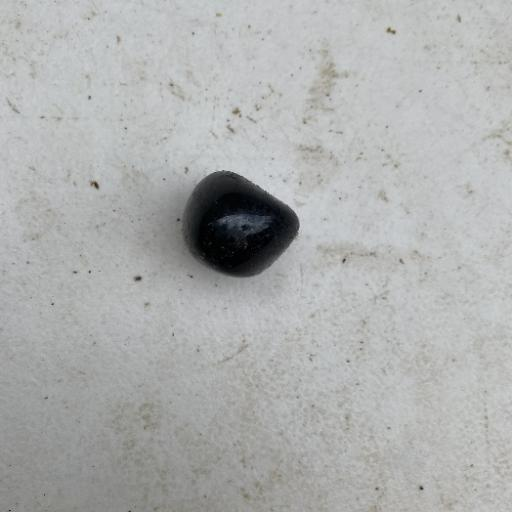Plastic: (178, 167, 301, 281)
